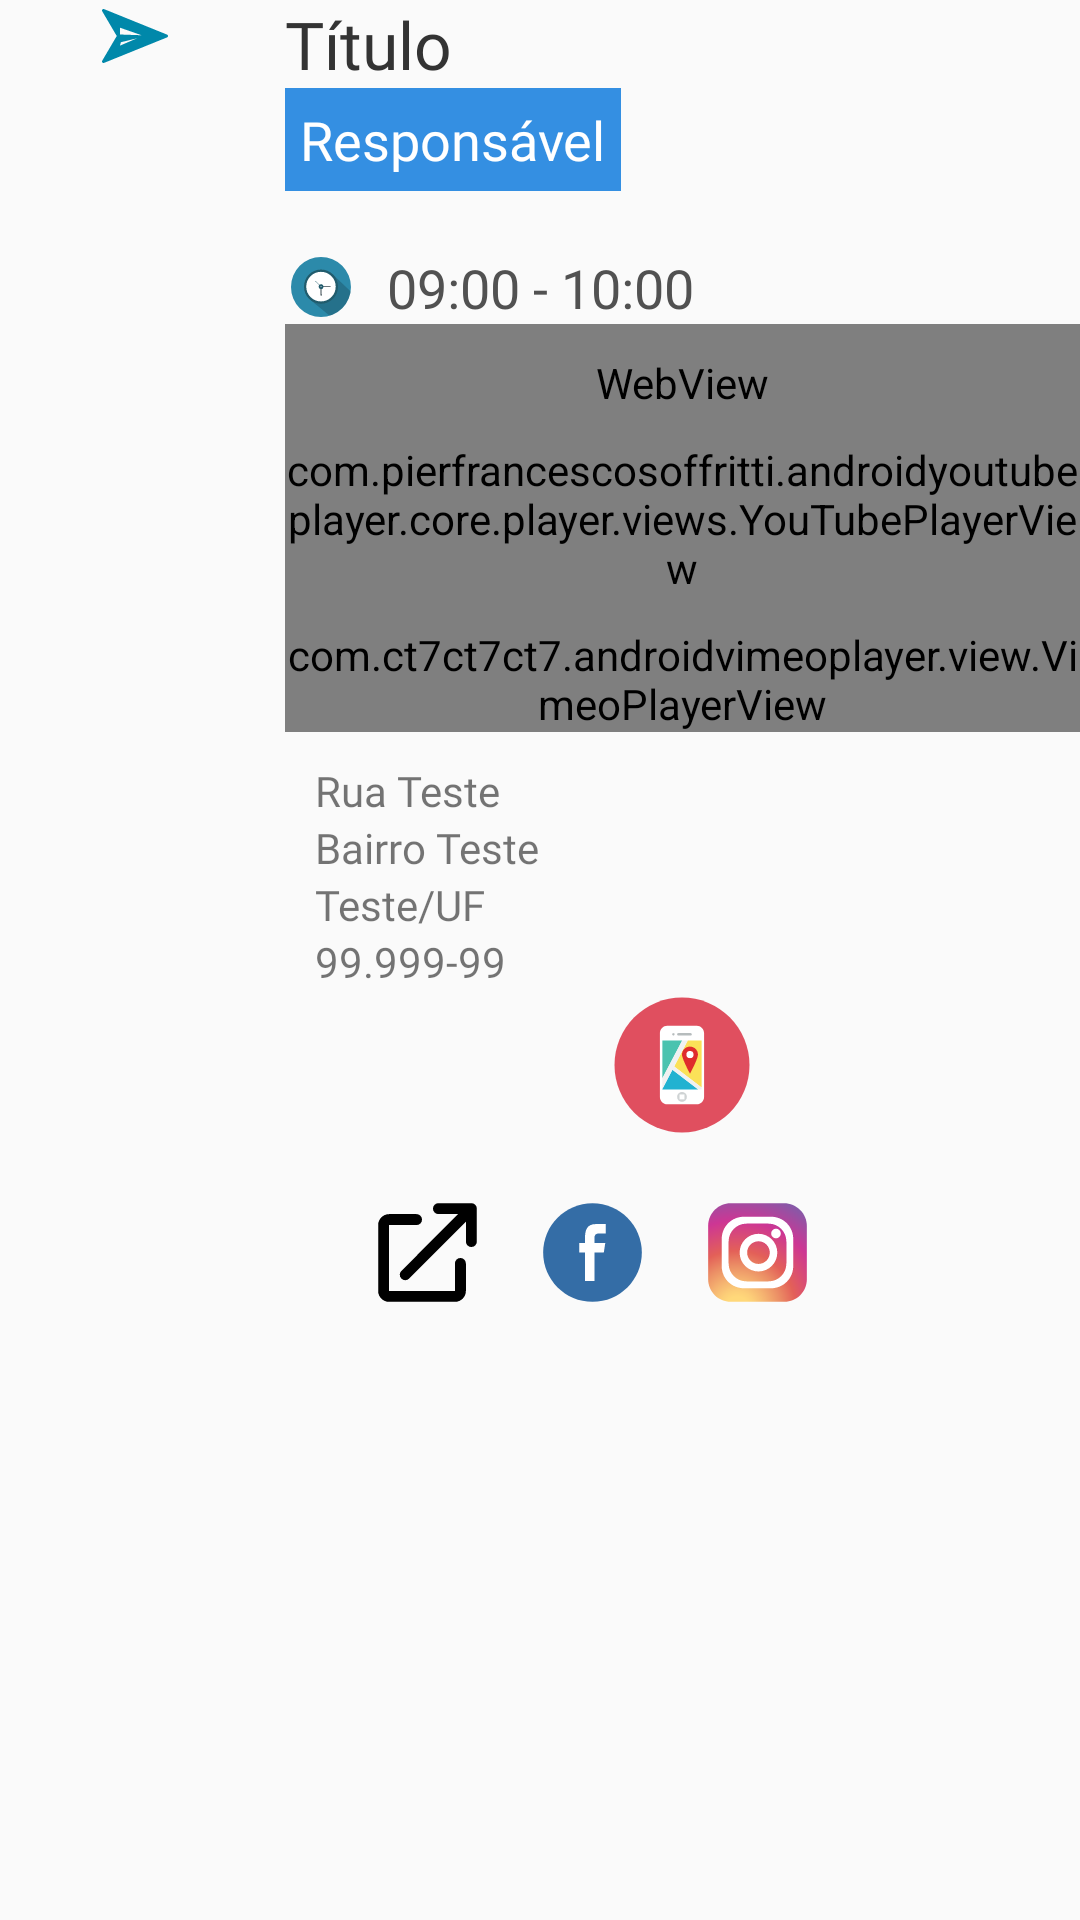

Icon click points for this 1080px x 1920px phone screenshot, format (x=x, y=y):
link: (x=427, y=1252)
map: (x=682, y=1065)
watch: (x=321, y=287)
